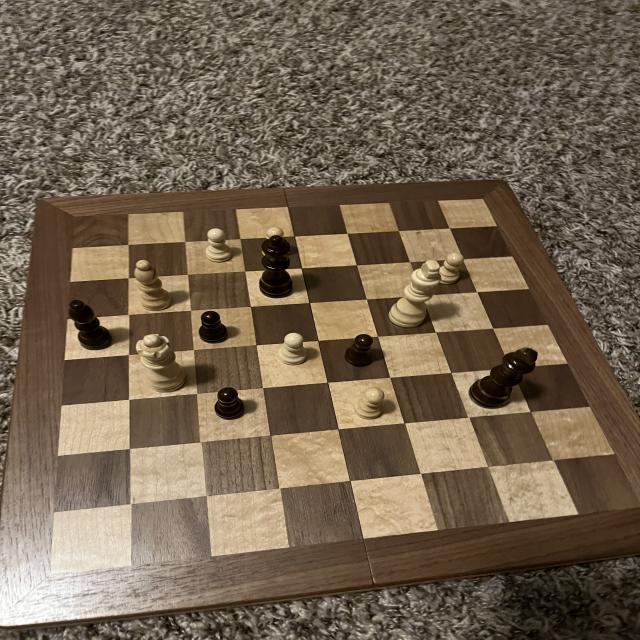bishop: (54, 294, 120, 352)
black-bishop: (464, 340, 536, 415)
black-knight: (192, 306, 234, 345), (338, 332, 381, 368), (214, 385, 249, 423)
black-pawn: (249, 229, 303, 301)
black-rook: (124, 255, 181, 311)
white-bishop: (384, 256, 450, 336)
white-knight: (198, 221, 241, 263), (272, 331, 311, 370), (350, 384, 390, 422), (434, 248, 467, 293), (260, 218, 292, 254)
white-pawn: (128, 333, 197, 395)
